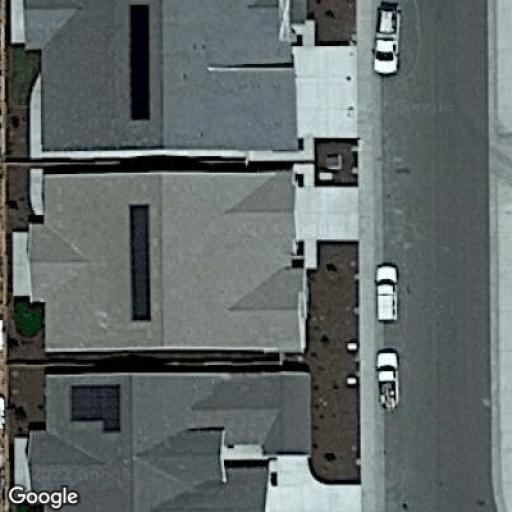solar-panel: (125, 201, 155, 327), (125, 2, 156, 122), (68, 382, 124, 436)
